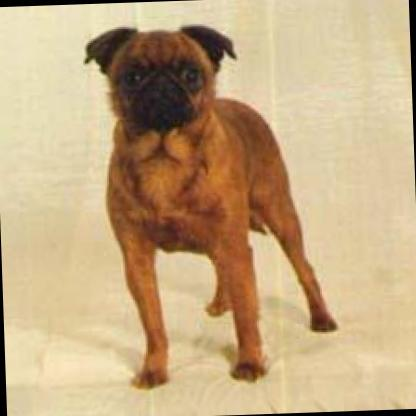Brabancon_griffon: (80, 16, 336, 385)
